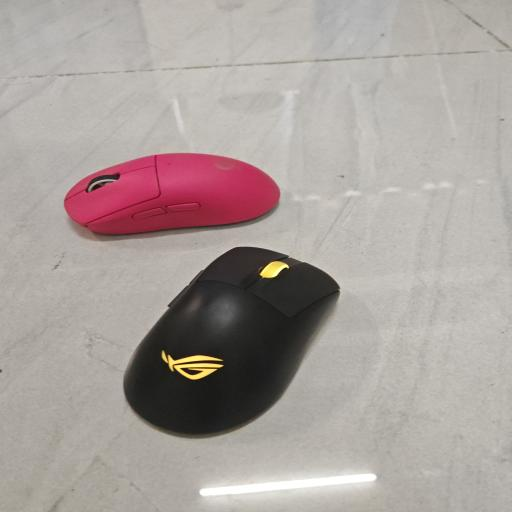mouse: (124, 247, 339, 434), (64, 153, 280, 234)
